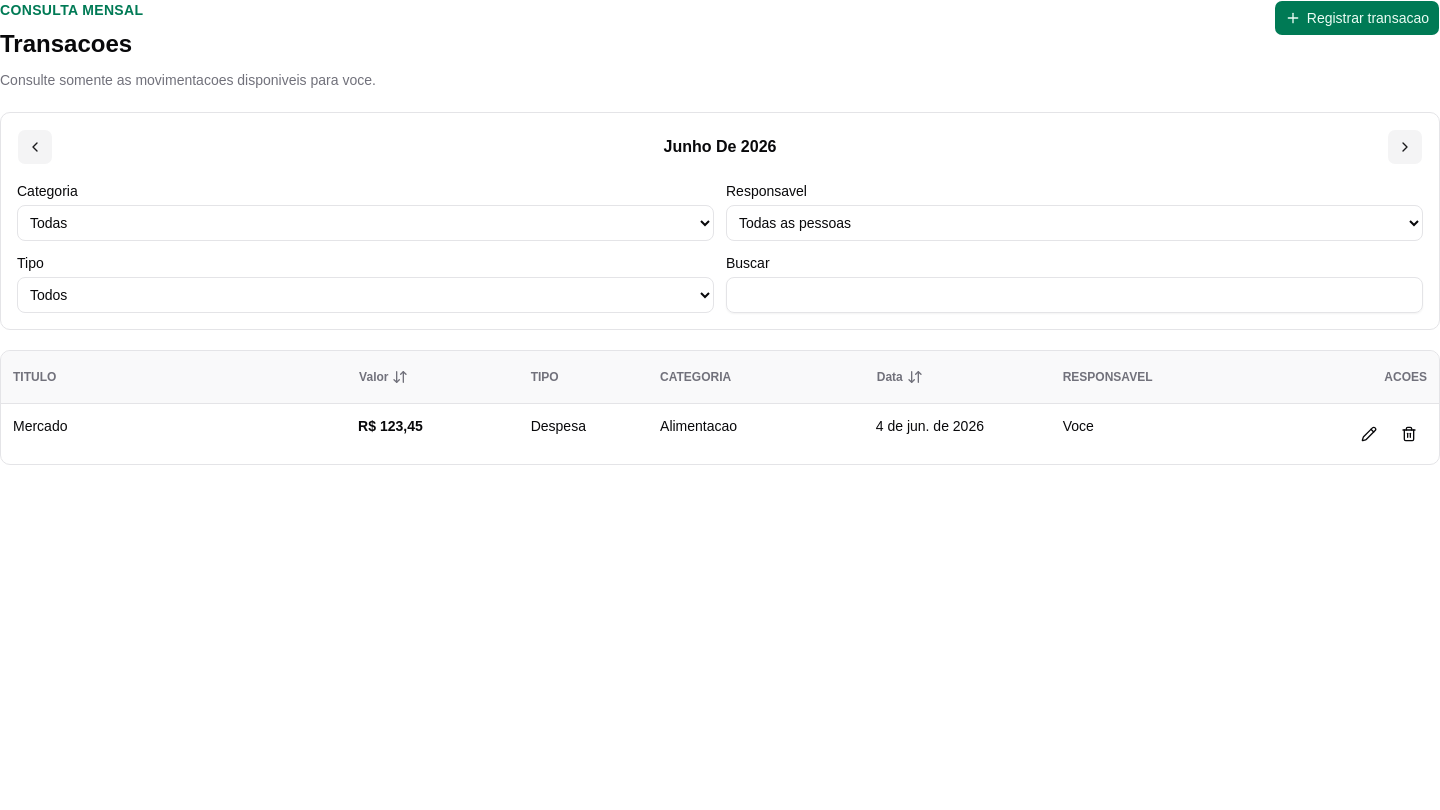
Test: TransactionsPage › opens edit and delete action dialogs from the transaction table
Click the button named "editar transacao mercado" at (1369, 434), box [1351,416,1387,452]
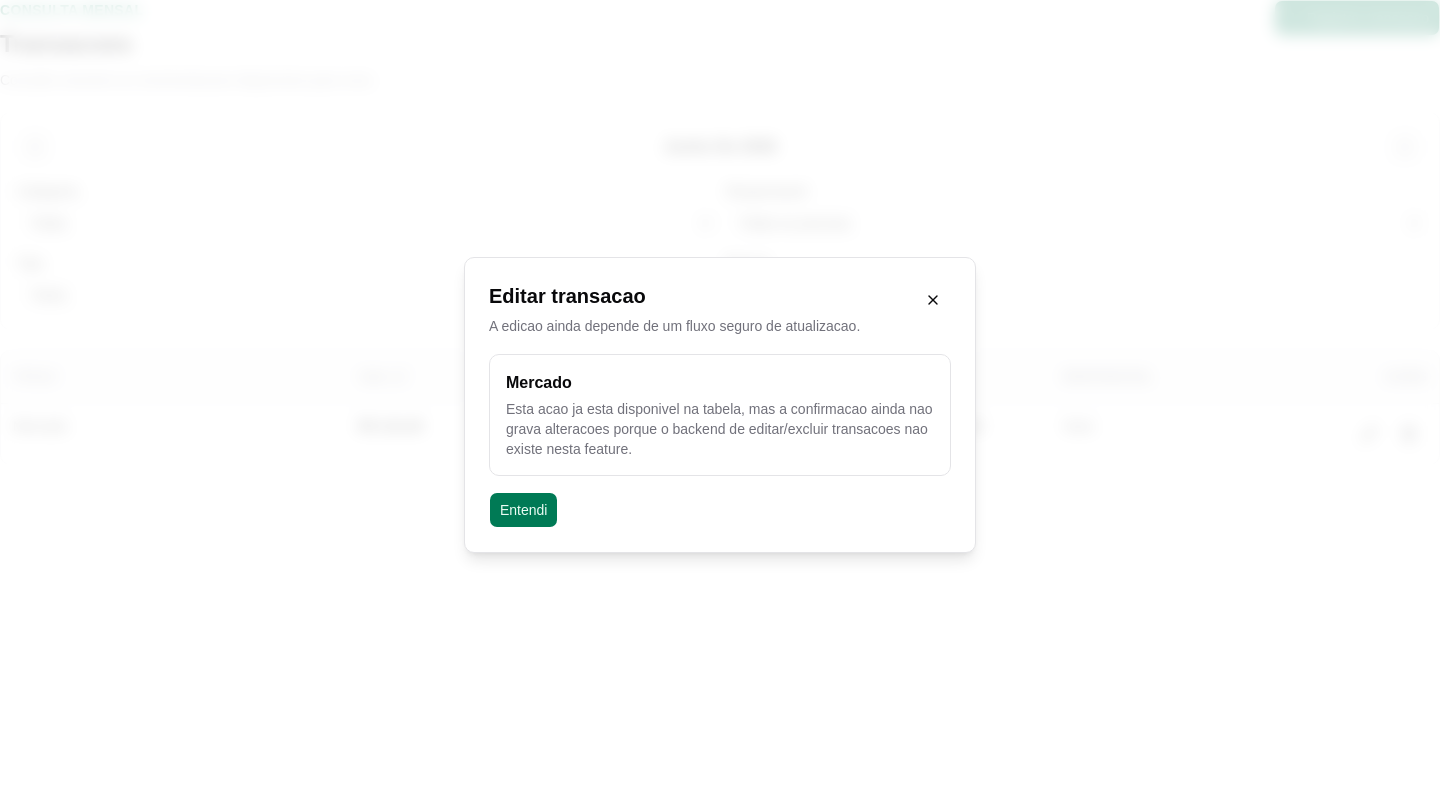
Expected: the dialog "Editar transacao" is shown, [464,257,976,553]
Expected: the text "backend de editar/excluir transacoes nao existe" is shown, [506,401,932,457]
Click the button "Entendi" at (524, 510), box [489,492,558,528]
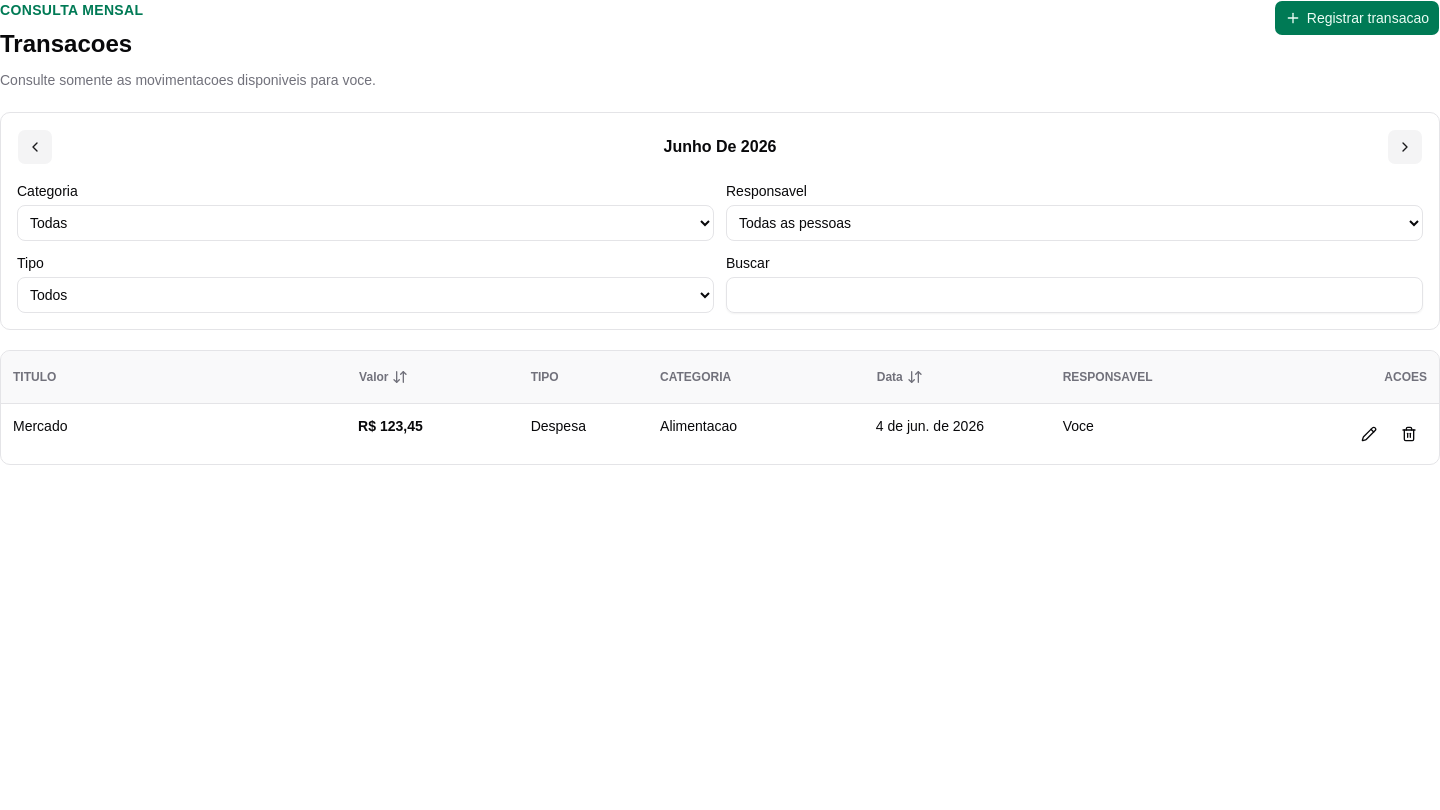
Click the button named "excluir transacao mercado" at (1409, 434), box [1391,416,1427,452]
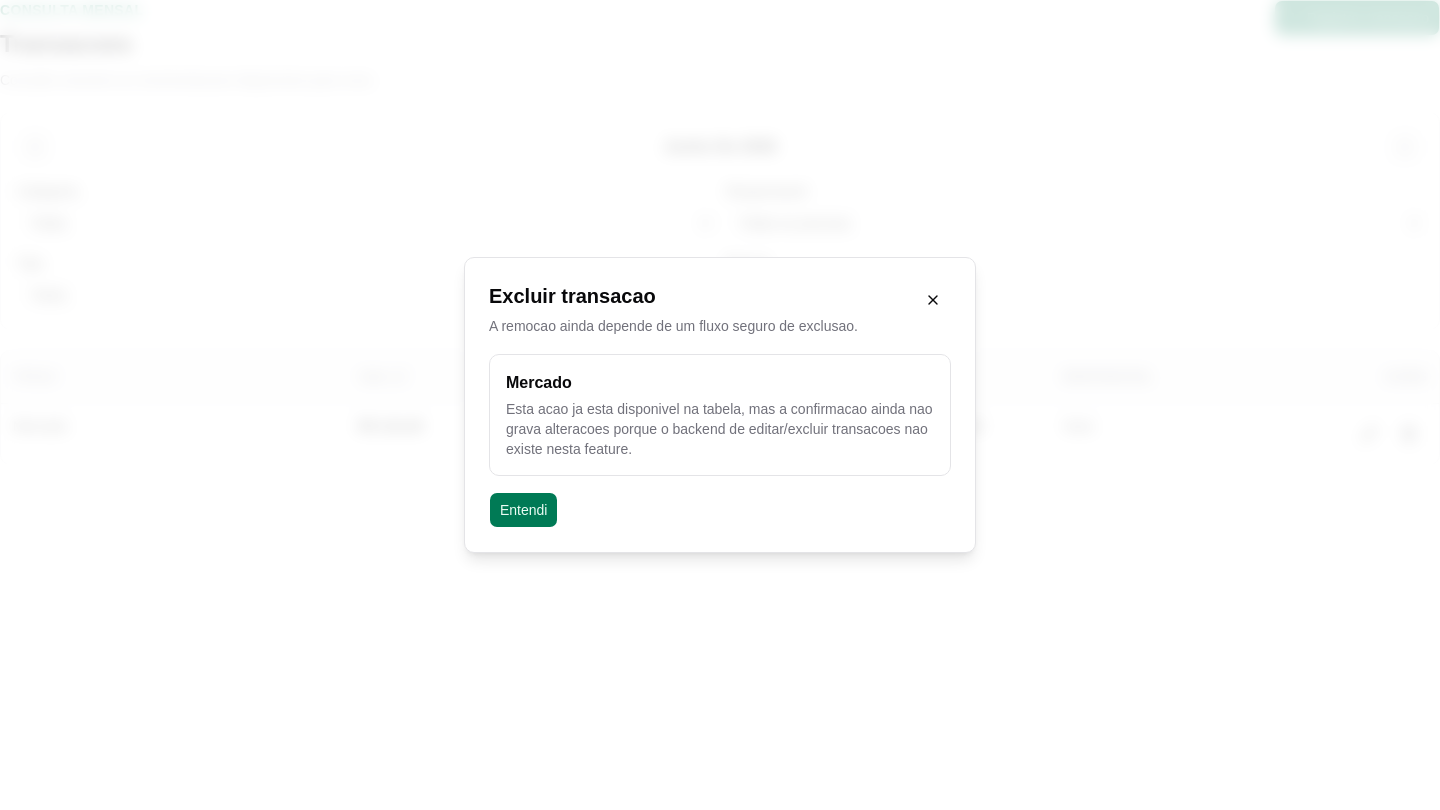
Expected: the dialog "Excluir transacao" is shown, [464,257,976,553]
